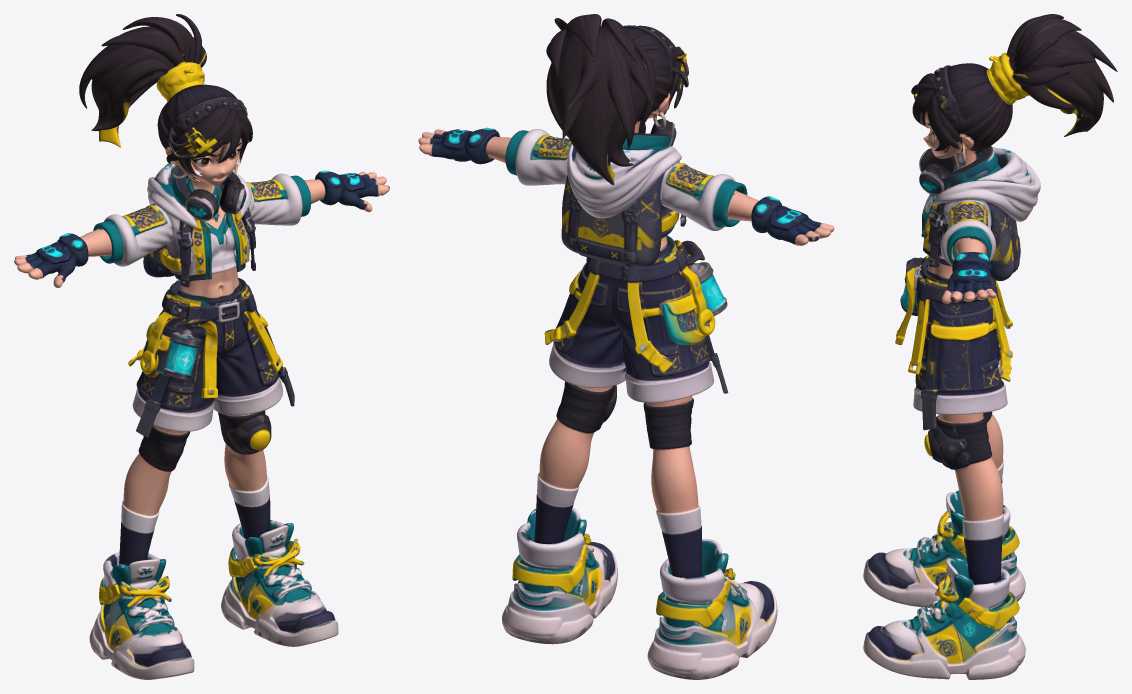
The model's file is jie.glb.
3 views of the same model, side by side, from view 1: azimuth 30°, elevation 25°; view 2: azimuth 150°, elevation 25°; view 3: azimuth 270°, elevation 25° (orthographic). The views are drawn at different scales.
Size of the model in its own units: 1.24 by 1.9 by 0.7206.
Materials: 1 (1 with a texture image).
